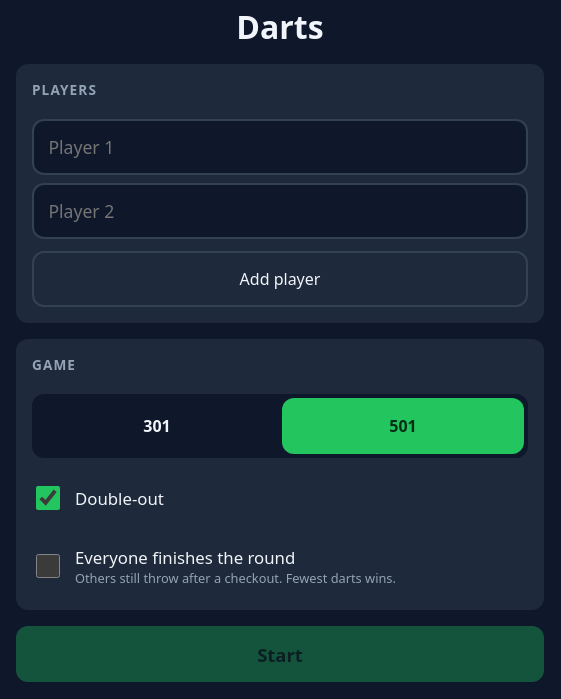
App › start is disabled until two names are given
The width and height of the screenshot is (561, 699).
Expected: the button "Start" is disabled, [16,626,544,682]
In the field named "player 1 name": (280,147) [32,119,528,175], type "Ann"
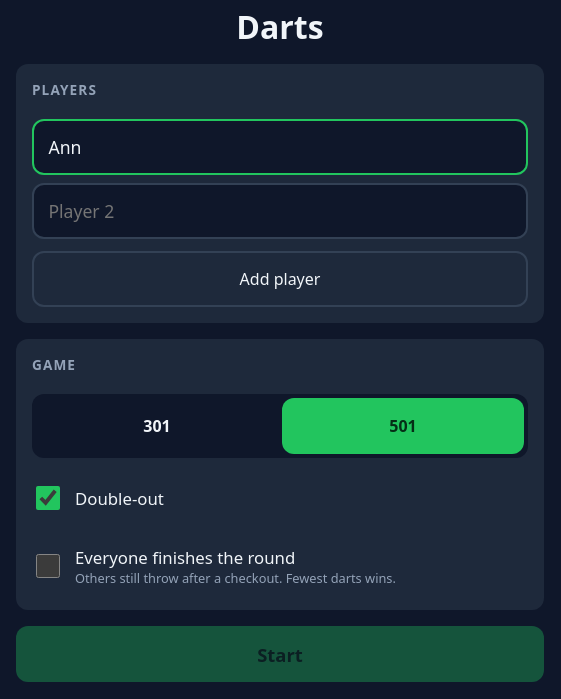
Expected: the button "Start" is disabled, [16,626,544,682]
In the field named "player 2 name": (280,211) [32,183,528,239], type "Bob"
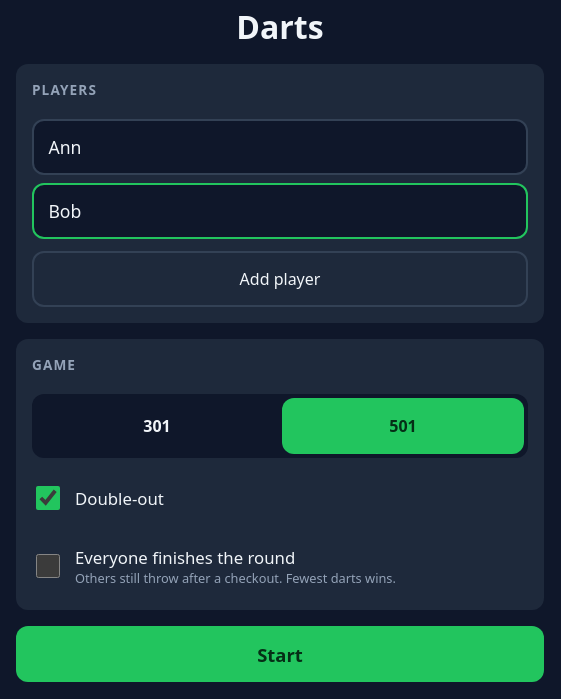
Expected: the button "Start" is enabled, [16,626,544,682]
